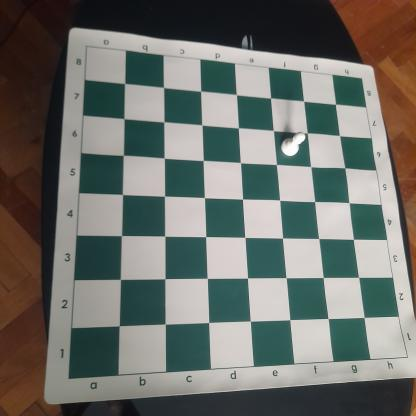white-pawn: (280, 132, 306, 158)
